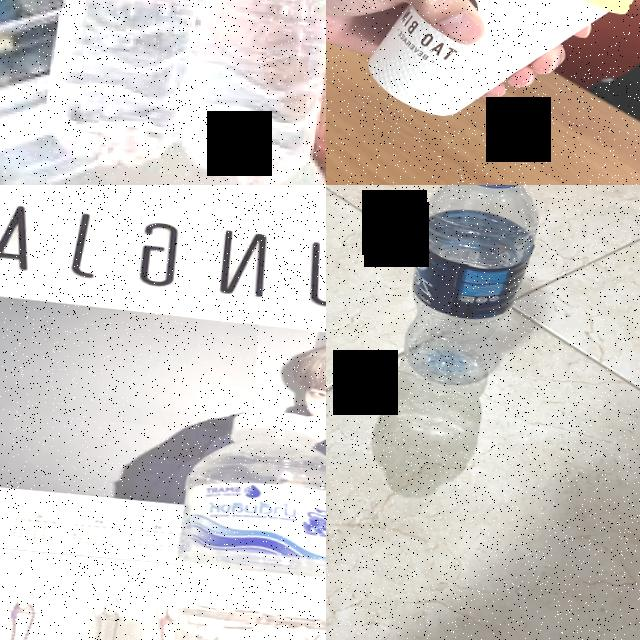bottle: (146, 402, 326, 640), (37, 0, 250, 179), (381, 185, 550, 403), (175, 0, 326, 185)
cup: (354, 0, 640, 138)
